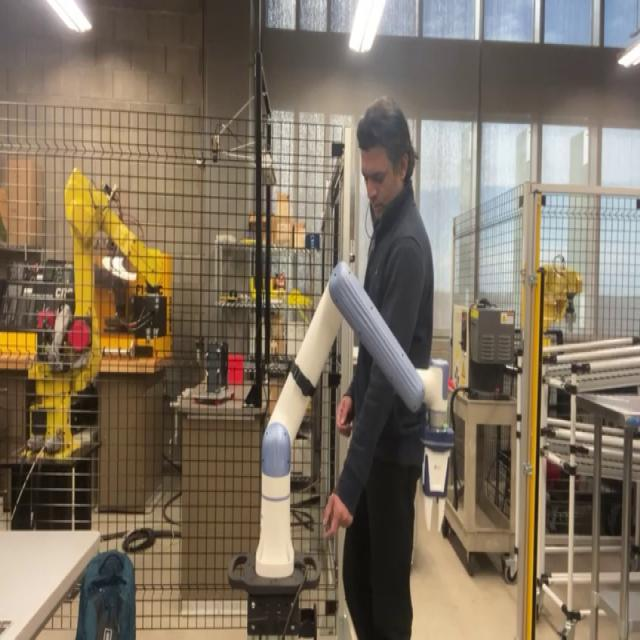human: (322, 95, 434, 637)
